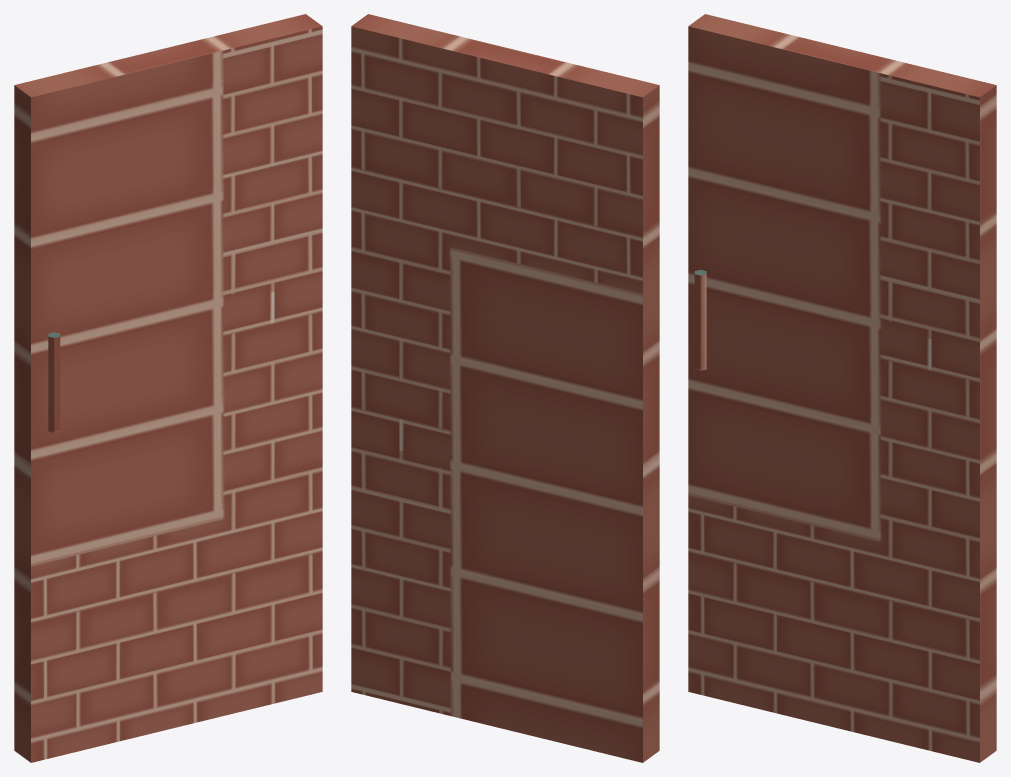
The model's file is schooldoor.fbx.
3 views of the same model, side by side, from view 1: azimuth 30°, elevation 25°; view 2: azimuth 150°, elevation 25°; view 3: azimuth 330°, elevation 25° (orthographic).
Visible parts, largest first — view 1: door; view 2: door; view 3: door.
Boxes of the visible parts, bbox=[...] form: door: bbox=[14, 14, 322, 762]; door: bbox=[351, 14, 659, 762]; door: bbox=[688, 14, 996, 762].
Bounding box in the file's own units: 157 × 342 × 23.57.
Materials: 2 (1 with a texture image).
